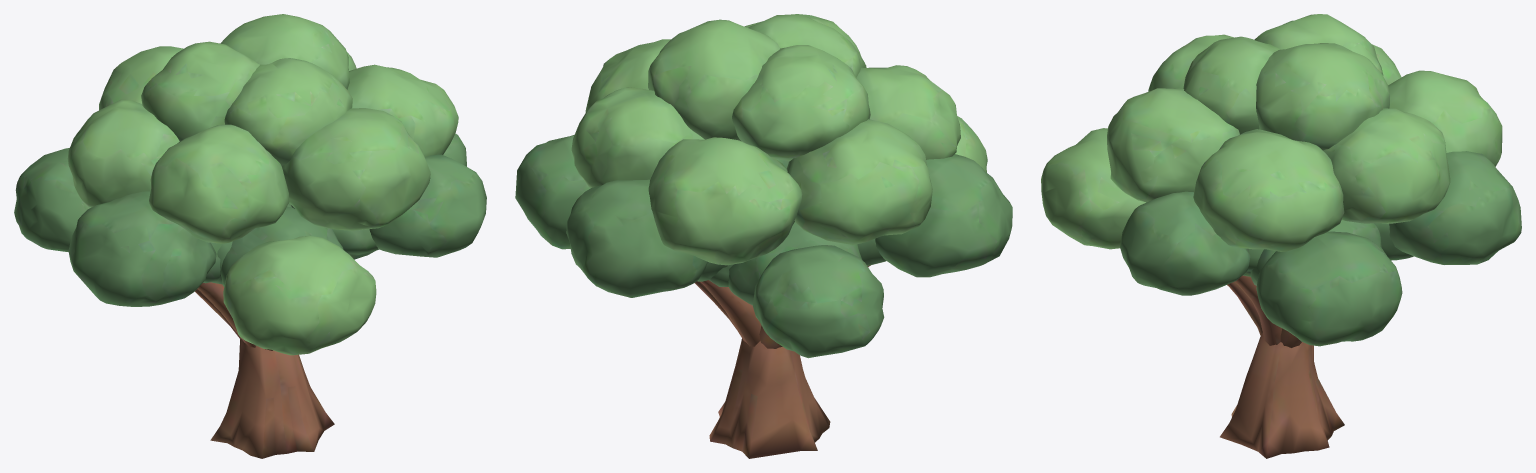
The model's file is oak-tree.glb.
3 views of the same model, side by side, from view 1: azimuth 30°, elevation 25°; view 2: azimuth 150°, elevation 25°; view 3: azimuth 270°, elevation 25° (orthographic). The views are drawn at different scales.
Parts seen in each view (by area): view 1: oak-tree_body; view 2: oak-tree_body; view 3: oak-tree_body.
Boxes of the visible parts, <box> form: oak-tree_body: <box>14,14,486,458</box>; oak-tree_body: <box>515,14,1012,458</box>; oak-tree_body: <box>1041,14,1521,458</box>.
Bounding box in the file's own units: 7.64 × 6.86 × 7.52.
Materials: 1 (1 with a texture image).
